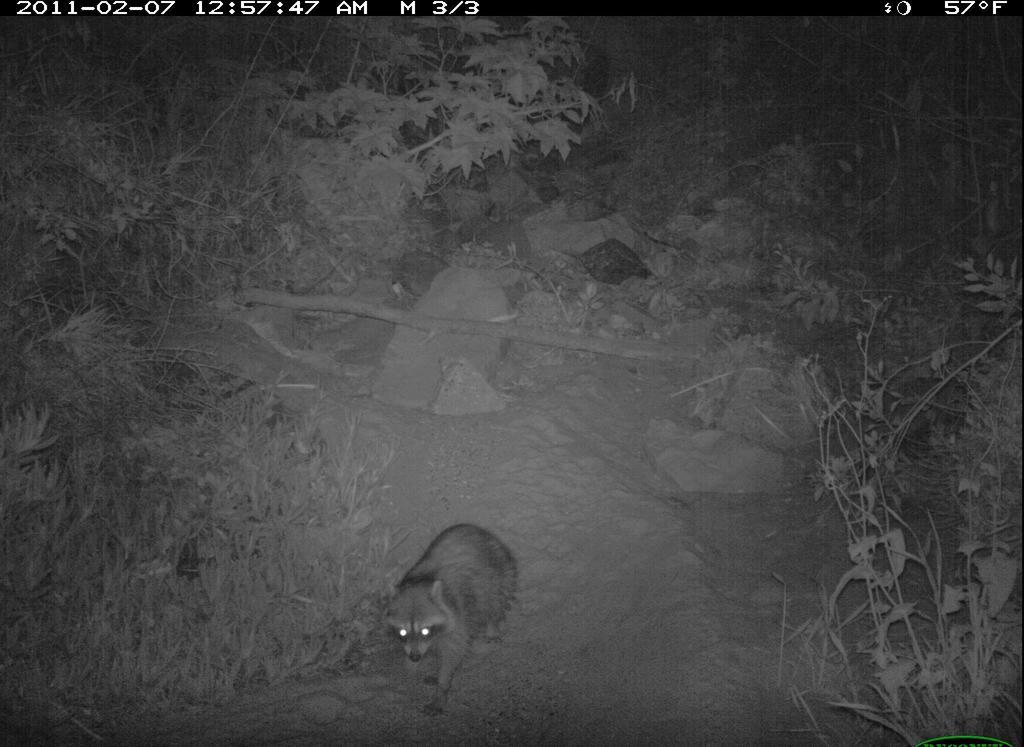raccoon: (364, 498, 566, 731)
